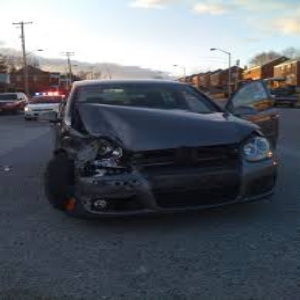bonnet: (89, 100, 250, 154)
